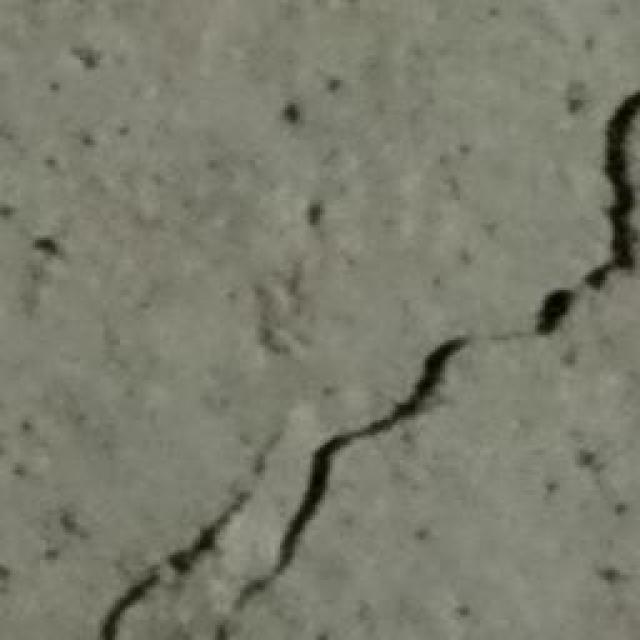Diagonal: (106, 82, 640, 640)
